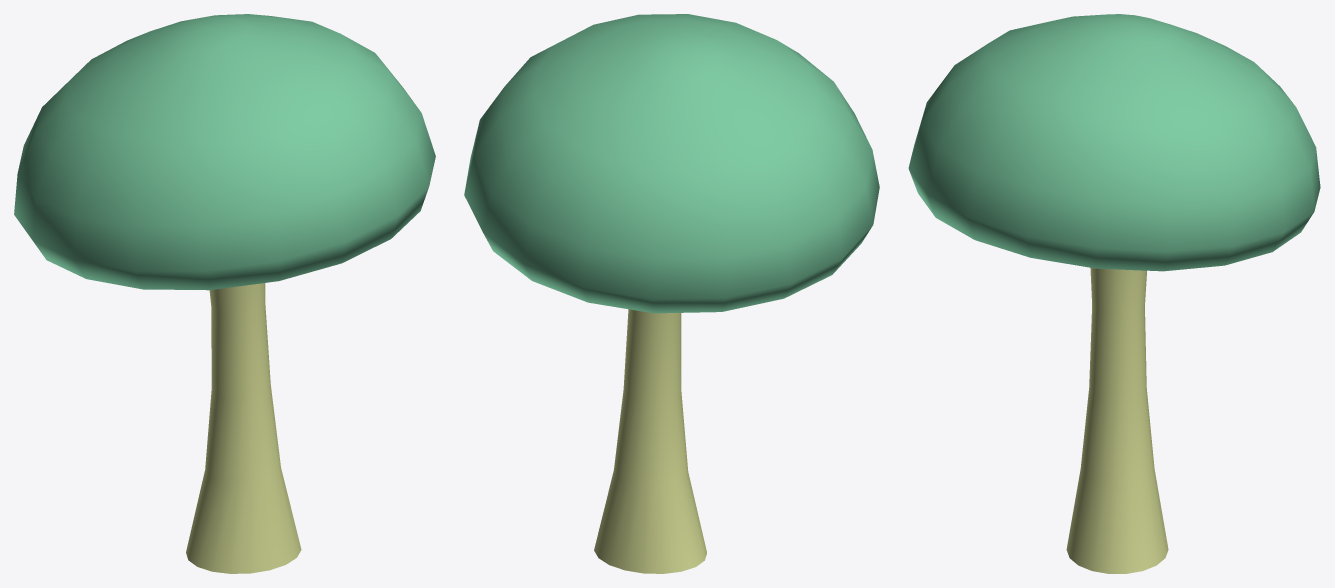
File: champi_vert.FBX
3 renders of one model, left to right at view 1: azimuth 30°, elevation 25°; view 2: azimuth 150°, elevation 25°; view 3: azimuth 270°, elevation 25°, orthographic. The views are drawn at different scales.
Visible parts, largest first — view 1: Cylinder047, Cylinder048; view 2: Cylinder047, Cylinder048; view 3: Cylinder047, Cylinder048.
Part boxes in pixels (x1,y1,x2,y2): Cylinder047: (14, 14, 435, 290); Cylinder048: (186, 283, 301, 573); Cylinder047: (464, 14, 879, 313); Cylinder048: (594, 309, 706, 573); Cylinder047: (908, 14, 1320, 271); Cylinder048: (1066, 267, 1168, 573).
Size of the model in its own units: 319 by 438 by 319.
